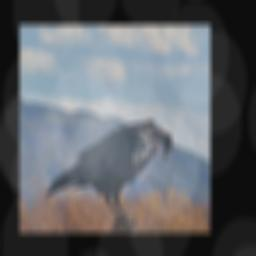Crow: (45, 118, 174, 231)
